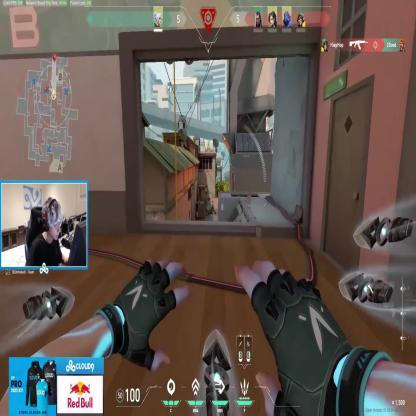enemy: (211, 201, 215, 214)
enemy_head: (212, 200, 214, 203)
